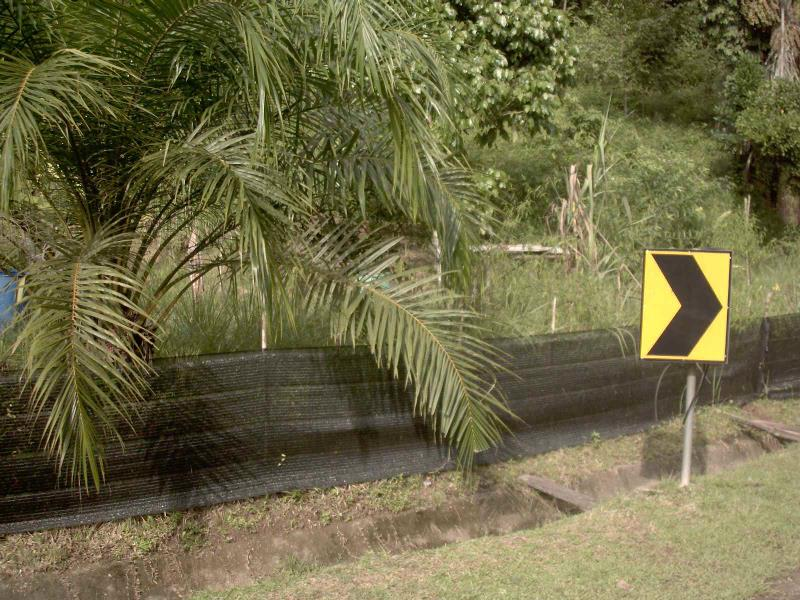traffic_sign: (629, 237, 741, 377)
